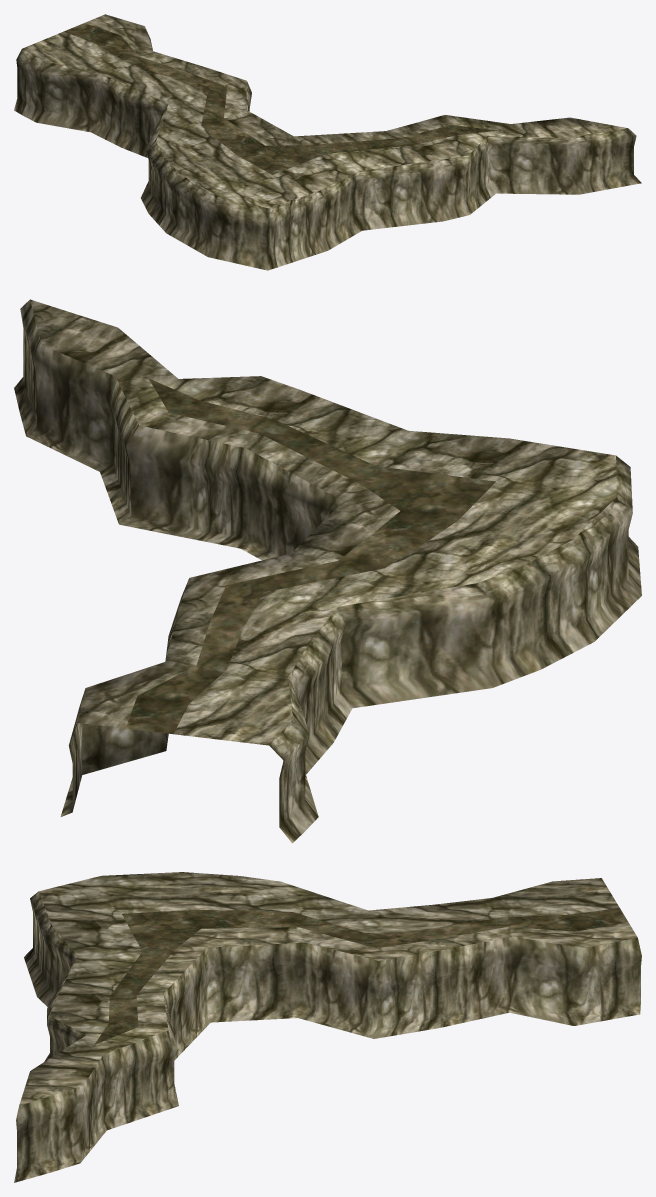
The model's file is CB_NEWPLAYSURFACE_CB_PLAYSURFACE88.fbx.
The picture shows the model from 3 angles, top to bottom: view 1: azimuth 30°, elevation 25°; view 2: azimuth 150°, elevation 25°; view 3: azimuth 270°, elevation 25°; orthographic projection. The views are drawn at different scales.
Parts seen in each view (by area): view 1: CB_NEWPLAYSURFACE_CB_PLAYSURFACE88; view 2: CB_NEWPLAYSURFACE_CB_PLAYSURFACE88; view 3: CB_NEWPLAYSURFACE_CB_PLAYSURFACE88.
Boxes of the visible parts, box(x1,y1,x2,y2) form: CB_NEWPLAYSURFACE_CB_PLAYSURFACE88: box(14, 14, 641, 270); CB_NEWPLAYSURFACE_CB_PLAYSURFACE88: box(14, 299, 641, 843); CB_NEWPLAYSURFACE_CB_PLAYSURFACE88: box(14, 872, 641, 1182).
Bounding box in the file's own units: 259134 × 34996 × 276341.
3 materials, 3 textured.
